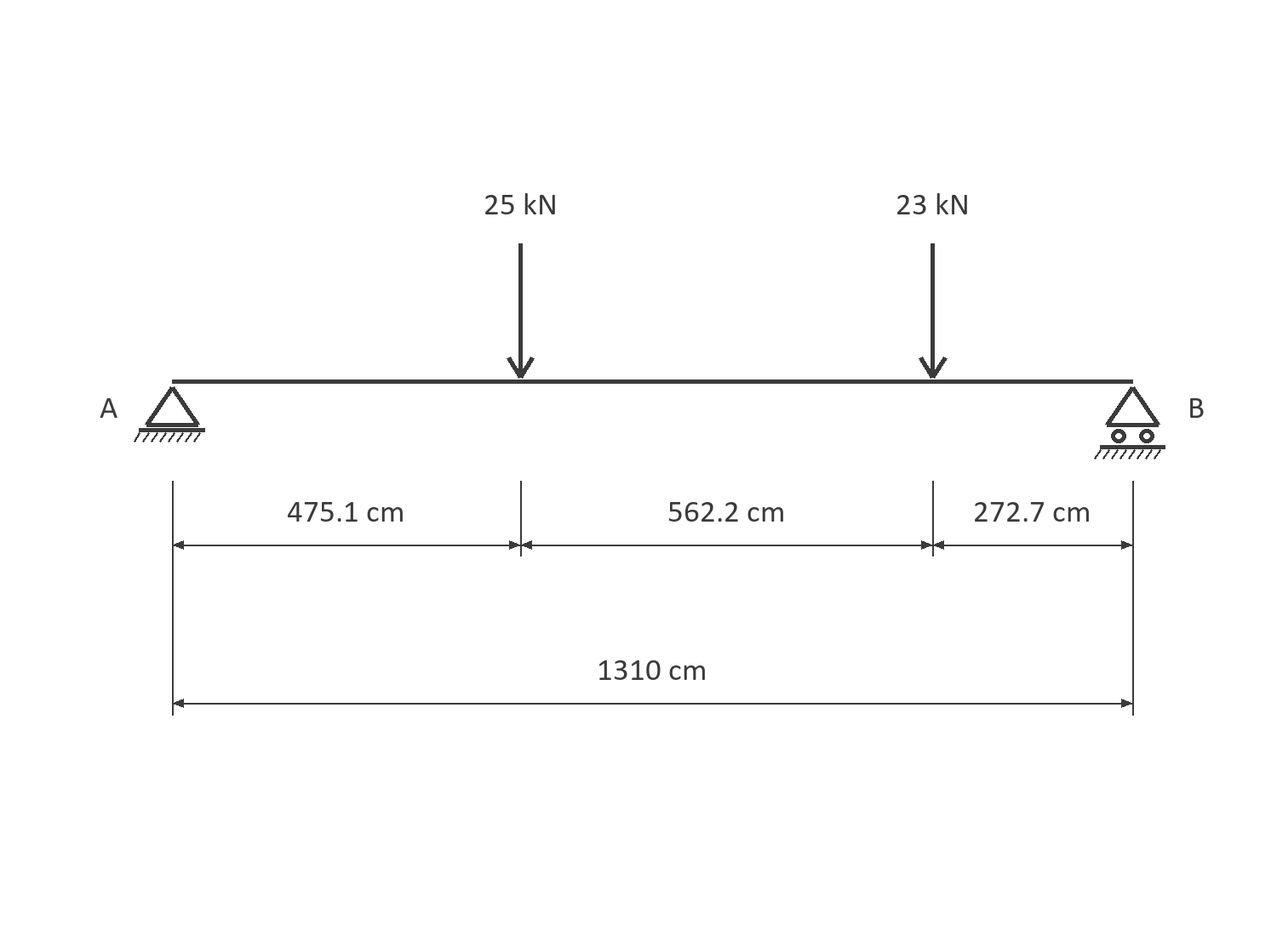pin_support: (134, 386, 205, 442)
point_load: (919, 243, 948, 379), (507, 243, 535, 379)
roller_support: (1094, 386, 1165, 459)
